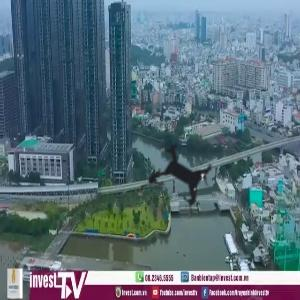drone: (113, 112, 249, 248)
